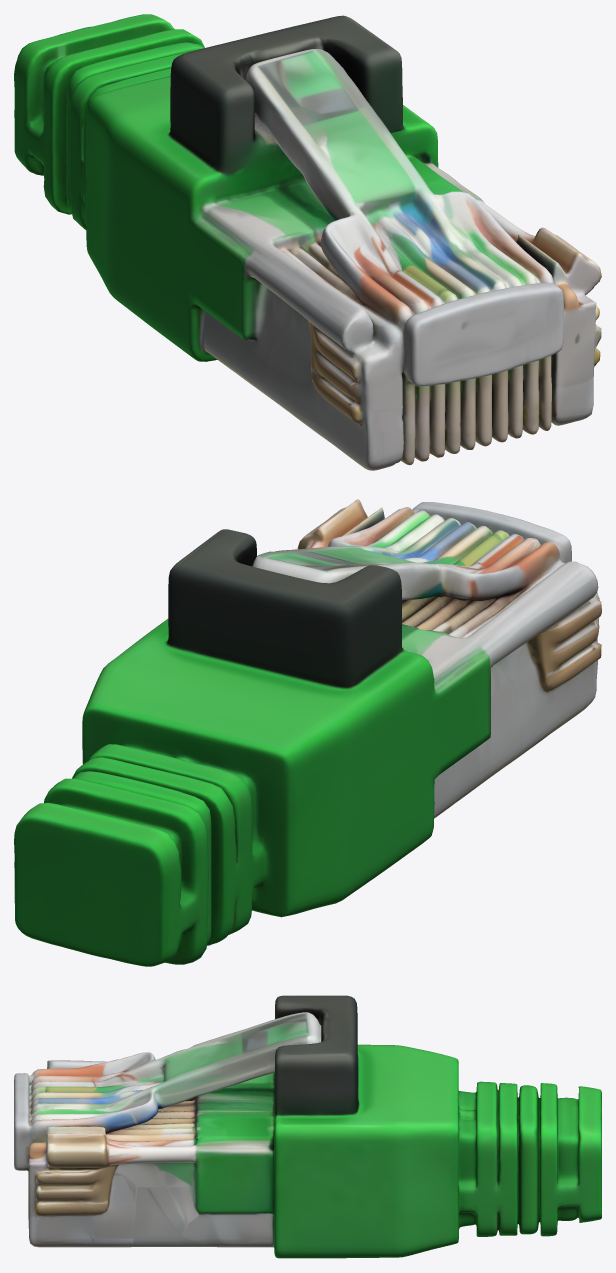
File: green_lan.fbx
The picture shows the model from 3 angles, top to bottom: view 1: azimuth 30°, elevation 25°; view 2: azimuth 150°, elevation 25°; view 3: azimuth 270°, elevation 25°; orthographic projection. The views are drawn at different scales.
Parts seen in each view (by area): view 1: model.007; view 2: model.007; view 3: model.007.
Boxes of the visible parts, x1=… form: model.007: x1=14, y1=14, x2=601, y2=470; model.007: x1=14, y1=499, x2=601, y2=966; model.007: x1=14, y1=995, x2=601, y2=1258.
Bounding box in the file's own units: 42.88 × 42.06 × 115.
Materials: 1 (1 with a texture image).
